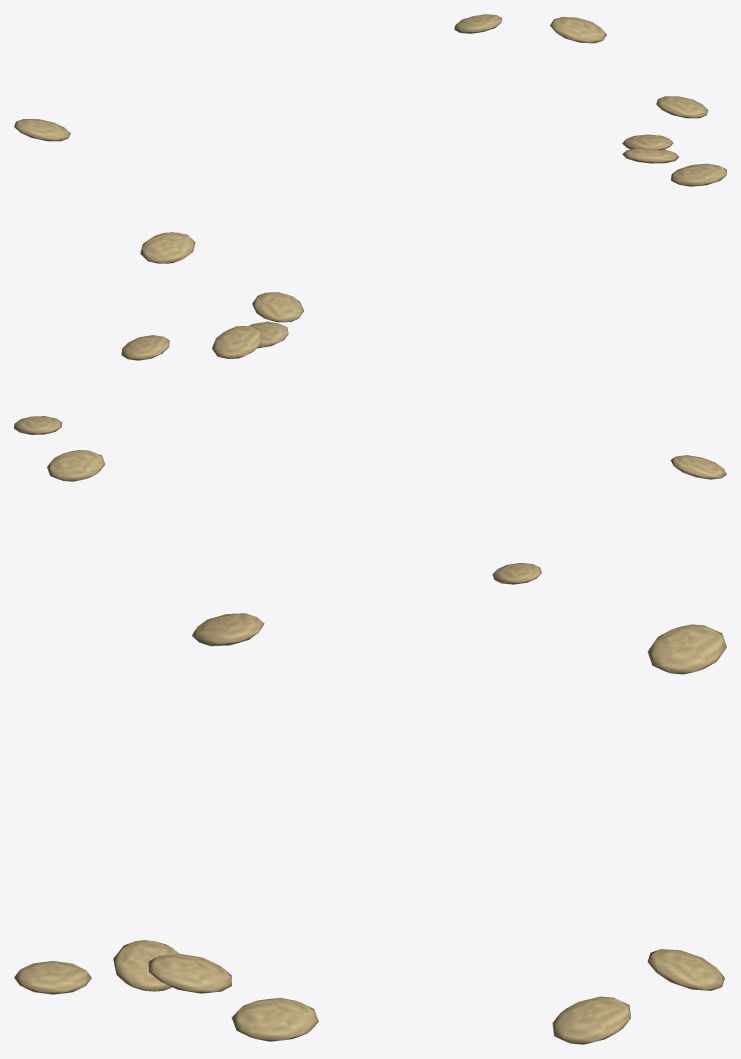
The model's file is Garden_Stones.fbx.
The picture shows the model from 3 angles, top to bottom: view 1: azimuth 30°, elevation 25°; view 2: azimuth 150°, elevation 25°; view 3: azimuth 270°, elevation 25°; orthographic projection. The views are drawn at different scales.
Parts seen in each view (by area): view 1: Garden_Stones; view 2: Garden_Stones; view 3: Garden_Stones.
Part boxes in pixels (x1=…): Garden_Stones: x1=14, y1=14, x2=726, y2=263; Garden_Stones: x1=14, y1=292, x2=726, y2=584; Garden_Stones: x1=14, y1=613, x2=726, y2=1044.
Bounding box in the file's own units: 1358 × 962 × 32.86.
